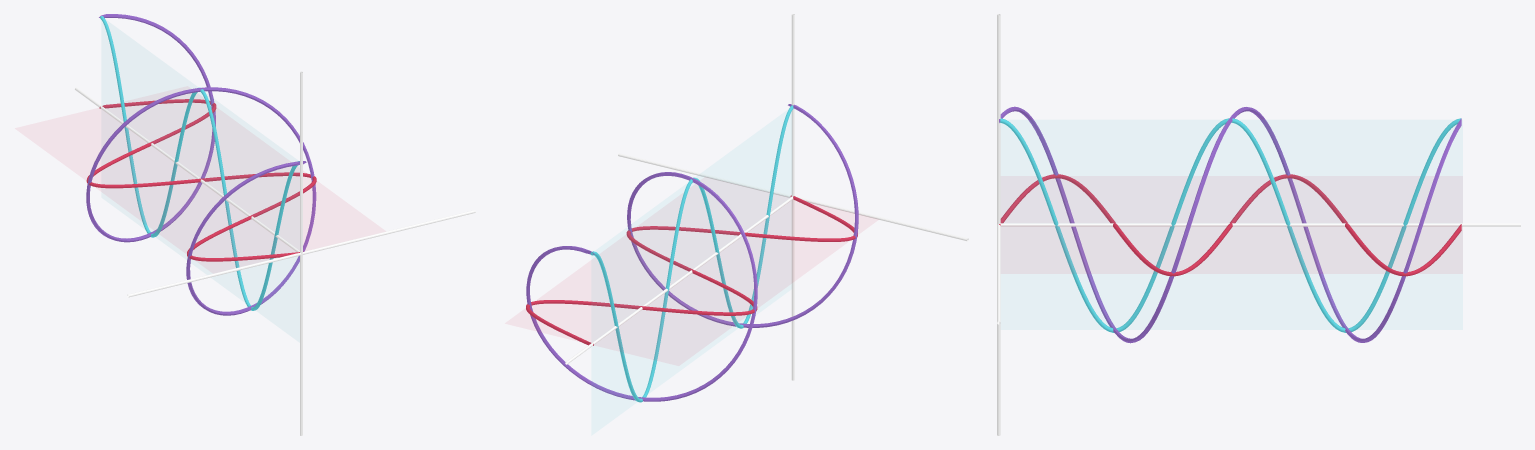
Rendered from lhcp.glb.
3 renders of one model, left to right at view 1: azimuth 30°, elevation 25°; view 2: azimuth 150°, elevation 25°; view 3: azimuth 270°, elevation 25°, orthographic. The views are drawn at different scales.
Parts seen in each view (by area): view 1: lhcp_sum, lhcp_axes, lhcp_v, lhcp_h; view 2: lhcp_sum, lhcp_axes, lhcp_v, lhcp_h; view 3: lhcp_sum, lhcp_v, lhcp_axes, lhcp_h.
Part boxes in pixels (x1=…): lhcp_sum: x1=86, y1=14, x2=316, y2=315; lhcp_axes: x1=75, y1=71, x2=475, y2=435; lhcp_v: x1=100, y1=16, x2=299, y2=310; lhcp_h: x1=86, y1=99, x2=316, y2=261; lhcp_sum: x1=526, y1=104, x2=858, y2=401; lhcp_axes: x1=565, y1=14, x2=968, y2=380; lhcp_v: x1=590, y1=105, x2=793, y2=402; lhcp_h: x1=526, y1=195, x2=857, y2=345; lhcp_sum: x1=999, y1=106, x2=1461, y2=343; lhcp_v: x1=1000, y1=118, x2=1460, y2=332; lhcp_axes: x1=997, y1=14, x2=1520, y2=435; lhcp_h: x1=999, y1=174, x2=1461, y2=276.
Size of the model in its own units: 4 by 4 by 4.51.
